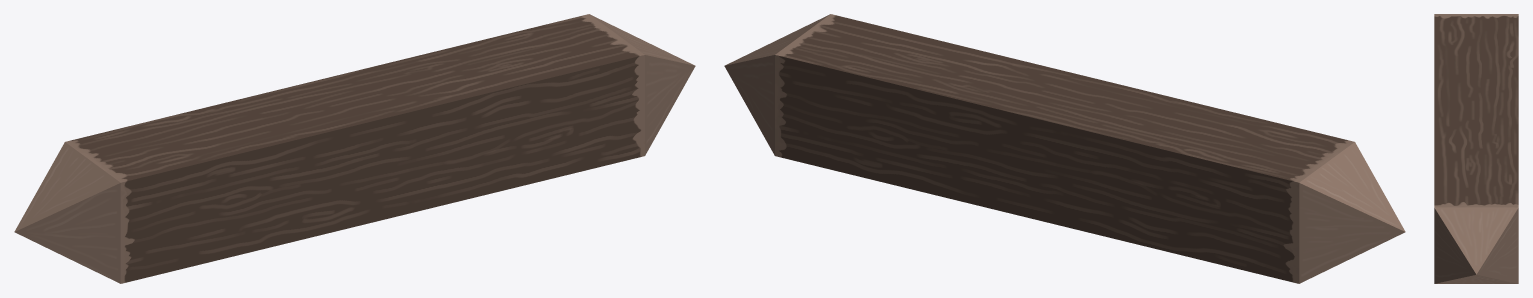
File: Obstacle1.fbx
3 views of the same model, side by side, from view 1: azimuth 30°, elevation 25°; view 2: azimuth 150°, elevation 25°; view 3: azimuth 270°, elevation 25° (orthographic). The views are drawn at different scales.
Visible parts, largest first — view 1: Cube; view 2: Cube; view 3: Cube.
Boxes of the visible parts, box(x1,y1,x2,y2) form: Cube: box(14, 14, 695, 283); Cube: box(724, 14, 1405, 283); Cube: box(1434, 14, 1518, 283).
Size of the model in its own units: 1409 by 200 by 200.
